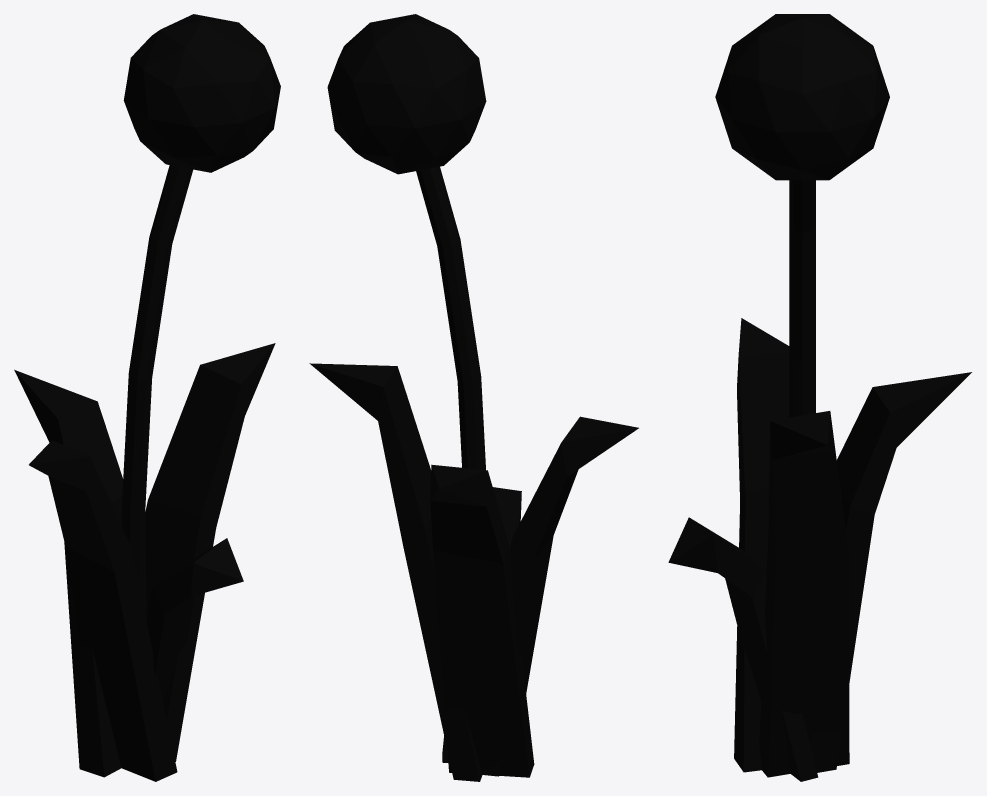
The model's file is Flower_1.fbx.
The picture shows the model from 3 angles, left to right: view 1: azimuth 30°, elevation 25°; view 2: azimuth 150°, elevation 25°; view 3: azimuth 270°, elevation 25°; orthographic projection. The views are drawn at different scales.
Parts seen in each view (by area): view 1: Flower_1; view 2: Flower_1; view 3: Flower_1.
Part boxes in pixels (x1,y1,x2,y2): Flower_1: (14,14,280,781); Flower_1: (309,14,638,781); Flower_1: (668,14,971,781).
Bounding box in the file's own units: 0.0804 × 0.1925 × 0.0679.
